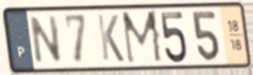5: (189, 9, 222, 64), (158, 9, 189, 64)
7: (63, 12, 89, 67)
K: (95, 12, 127, 64)
M: (120, 9, 166, 67)
N: (29, 14, 64, 67)
